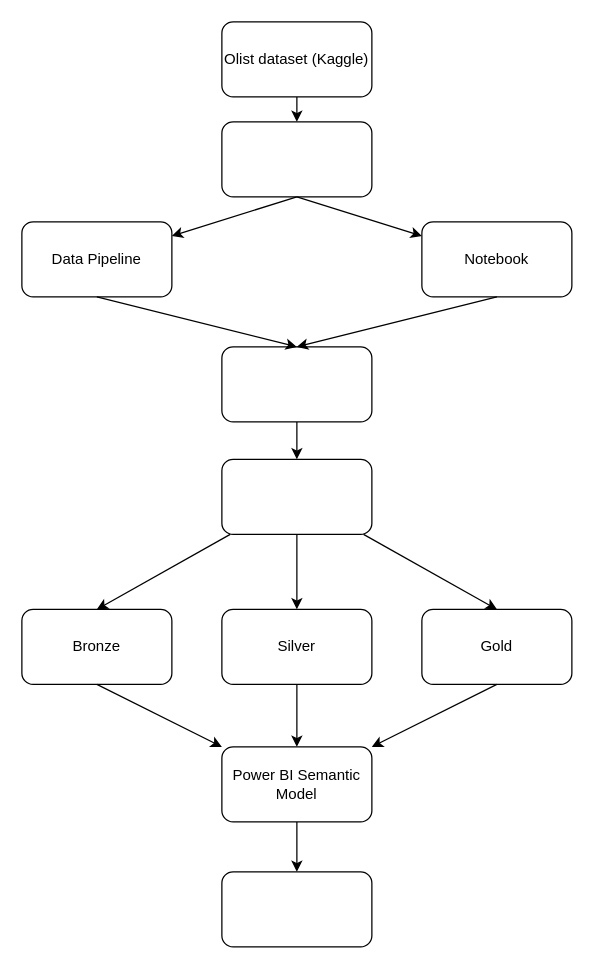
This 594x969 diagram has some shape labels left out. The centre of each missing label's shape, as x and y in pixels:
"Executive Dashboard" belongs at point 296,909.
"Lakehouse" belongs at point 296,496.
"Microsoft Fabric Workspace" belongs at point 296,159.
"One Lake Storage" belongs at point 296,384.
